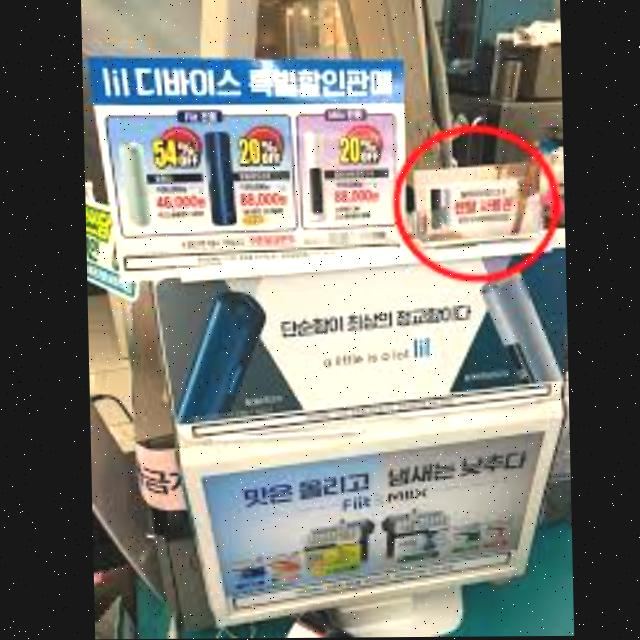vape: (170, 292, 270, 424), (477, 270, 560, 384)
